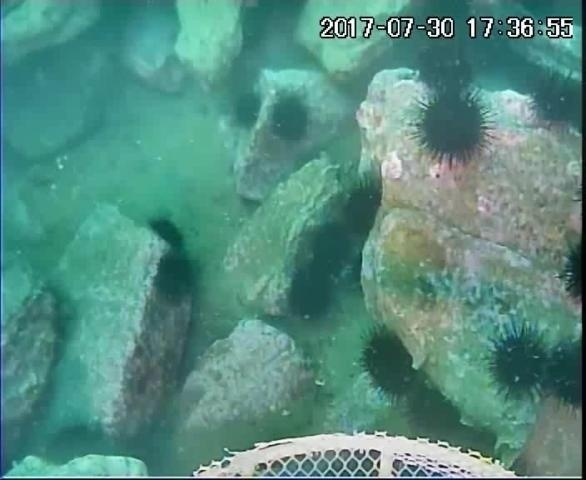echinus: (409, 87, 496, 168), (483, 322, 555, 404), (356, 325, 424, 401), (405, 26, 479, 95), (525, 71, 584, 135), (42, 418, 110, 470), (542, 336, 585, 416), (404, 382, 465, 436), (338, 176, 388, 241), (284, 264, 338, 324), (306, 220, 357, 276), (151, 251, 201, 304), (266, 92, 314, 145), (555, 234, 586, 309), (145, 214, 189, 255), (227, 89, 265, 132)
